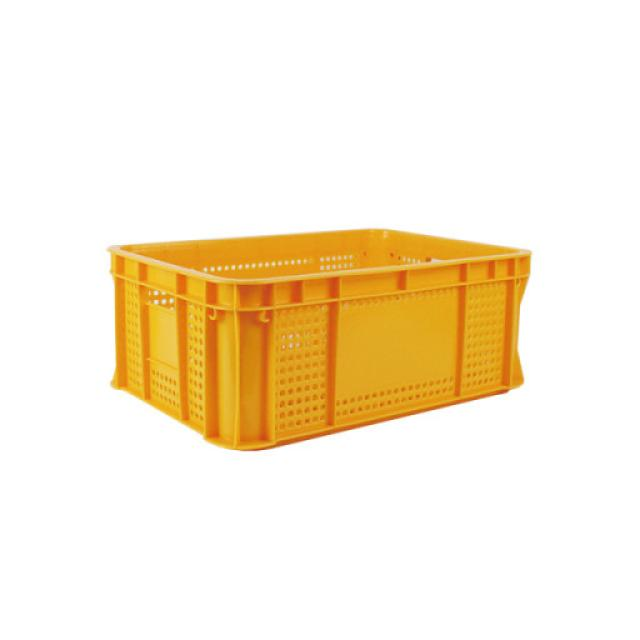basket: (108, 227, 535, 453)
